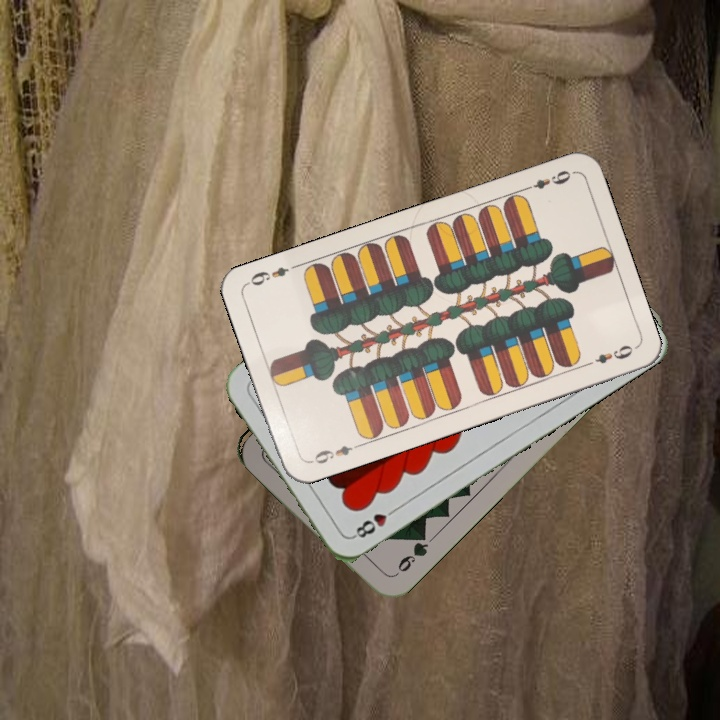E9: (518, 166, 574, 194), (305, 440, 362, 467)
G9: (389, 527, 432, 580)
H8: (348, 503, 401, 541)
